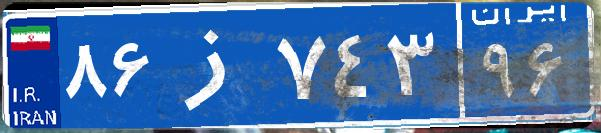3: (385, 28, 445, 110)
4: (330, 28, 385, 110)
6: (110, 28, 158, 105), (525, 38, 570, 115)
7: (273, 28, 330, 110)
8: (57, 26, 110, 107)
9: (475, 38, 525, 113)
ز: (158, 15, 273, 115)
